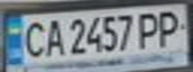2: (63, 15, 87, 55)
4: (84, 14, 106, 54)
5: (100, 12, 121, 53)
7: (115, 11, 139, 51)
A: (42, 16, 66, 58)
C: (18, 17, 48, 59)
P: (151, 7, 187, 48), (133, 9, 166, 50)
